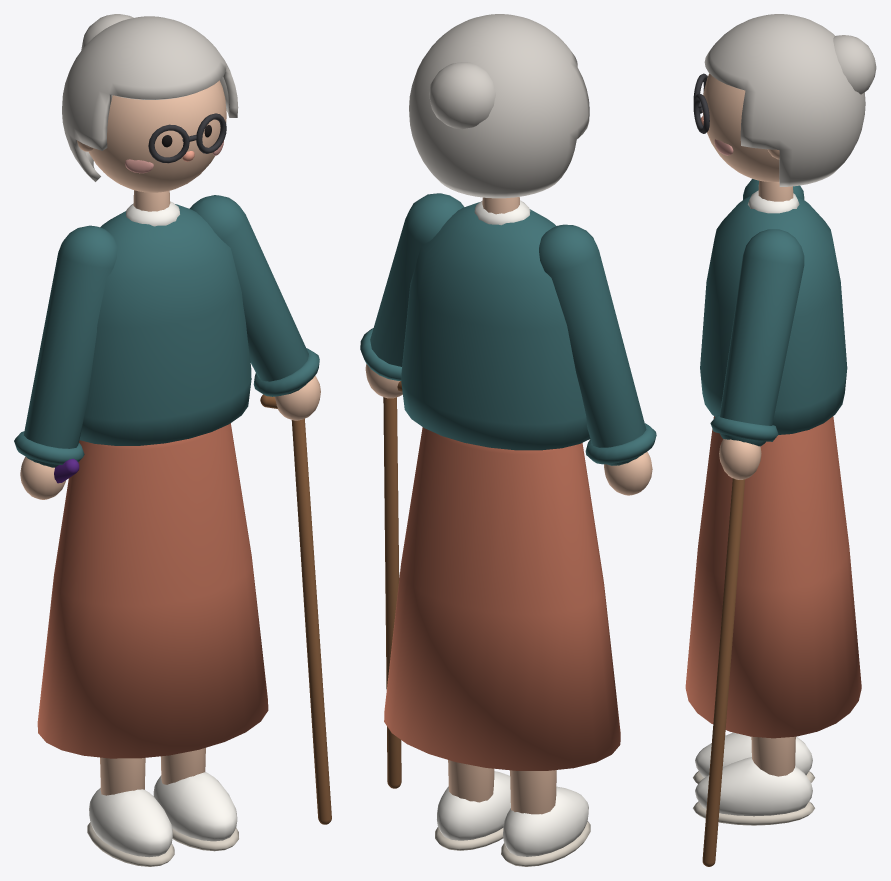
Rendered from Votante_Mayor.fbx.
The picture shows the model from 3 angles, left to right: view 1: azimuth 30°, elevation 25°; view 2: azimuth 150°, elevation 25°; view 3: azimuth 270°, elevation 25°; orthographic projection. The views are drawn at different scales.
Visible parts, largest first — view 1: Votante_Mayor; view 2: Votante_Mayor; view 3: Votante_Mayor.
Part boxes in pixels (x1,y1,x2,y2): Votante_Mayor: (14, 14, 331, 866); Votante_Mayor: (360, 14, 656, 866); Votante_Mayor: (685, 14, 876, 866).
Size of the model in its own units: 0.5708 by 1.53 by 0.3399.
